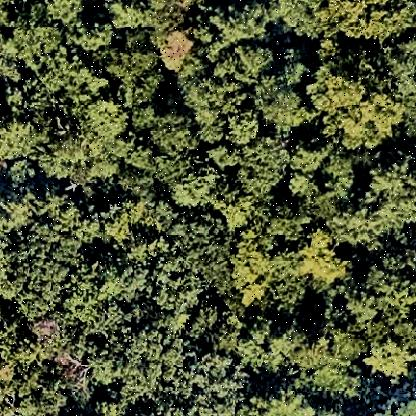tree-top: (305, 50, 411, 150), (45, 108, 126, 187), (105, 326, 179, 402), (185, 62, 246, 150), (229, 227, 293, 307), (352, 255, 414, 335), (226, 311, 301, 377), (15, 230, 83, 300), (63, 264, 129, 334), (168, 214, 229, 287), (303, 1, 416, 40), (204, 1, 278, 59), (36, 51, 107, 109), (106, 43, 167, 109), (365, 144, 416, 222), (251, 74, 313, 136), (189, 350, 247, 416), (296, 229, 356, 292), (149, 262, 206, 326), (10, 15, 74, 70), (294, 321, 360, 372), (237, 137, 289, 199), (166, 165, 230, 214), (148, 108, 205, 158), (1, 109, 49, 165), (364, 331, 413, 384), (157, 22, 205, 73), (335, 206, 387, 252), (239, 389, 325, 416), (227, 40, 275, 84), (1, 183, 40, 235), (73, 14, 119, 58), (14, 382, 73, 416), (277, 48, 316, 96), (40, 187, 86, 227), (226, 107, 261, 151), (270, 199, 308, 239), (57, 356, 96, 394), (37, 1, 91, 24), (288, 167, 322, 203), (83, 399, 151, 416), (366, 394, 416, 416), (1, 2, 18, 32)
